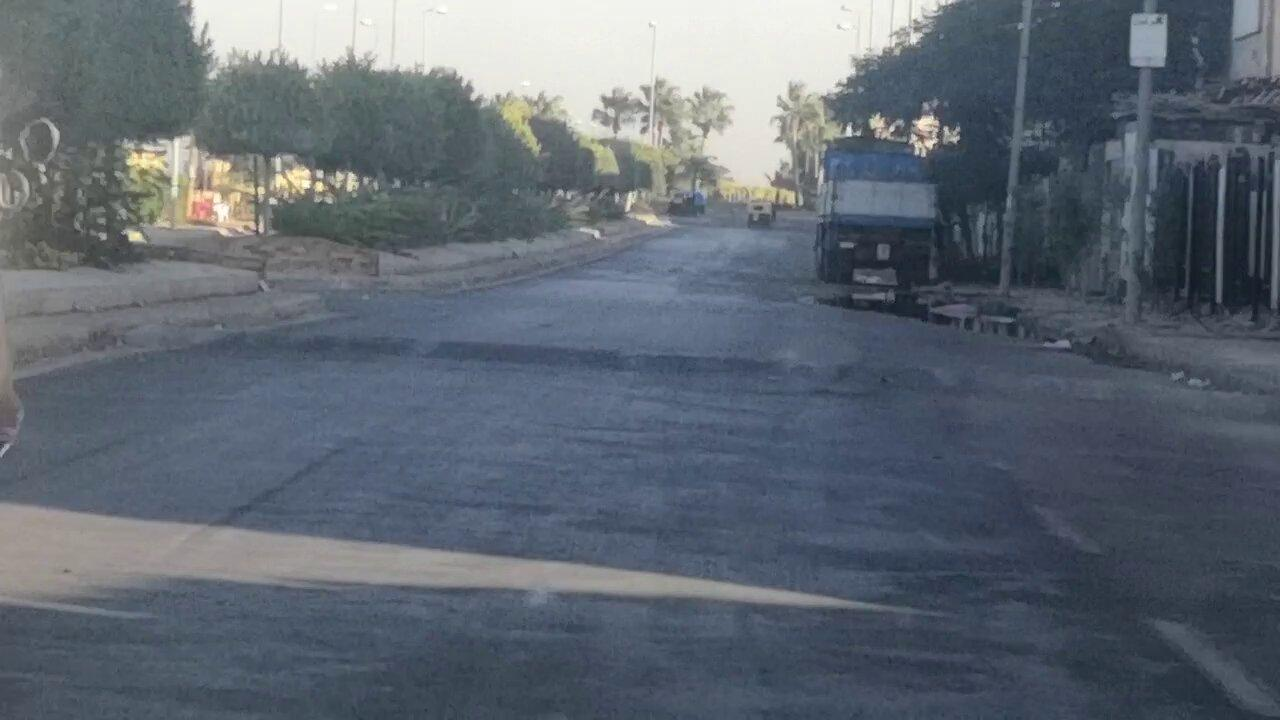Bump: (217, 322, 1090, 407)
